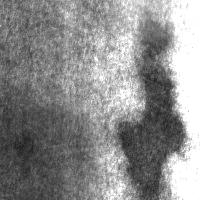patches: (0, 98, 103, 200), (119, 54, 187, 199), (111, 0, 200, 47), (135, 10, 175, 85)
